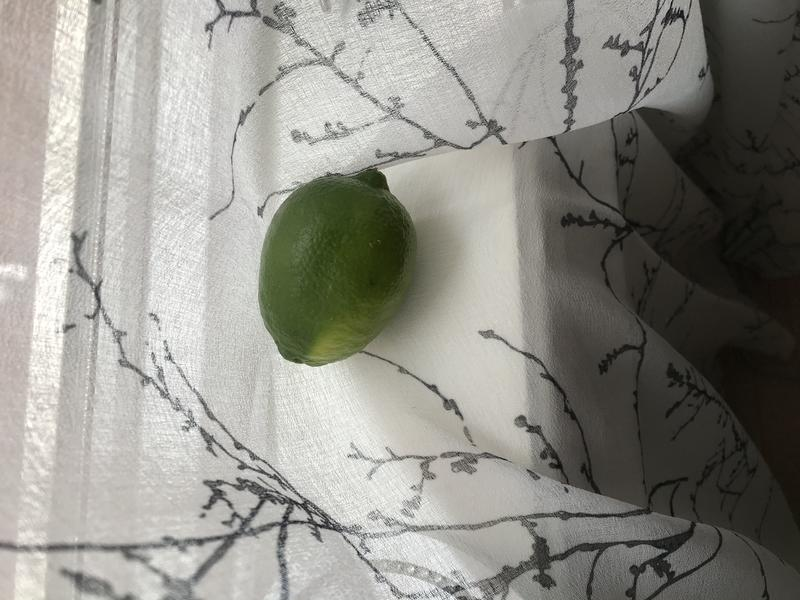lime: (249, 154, 428, 383)
